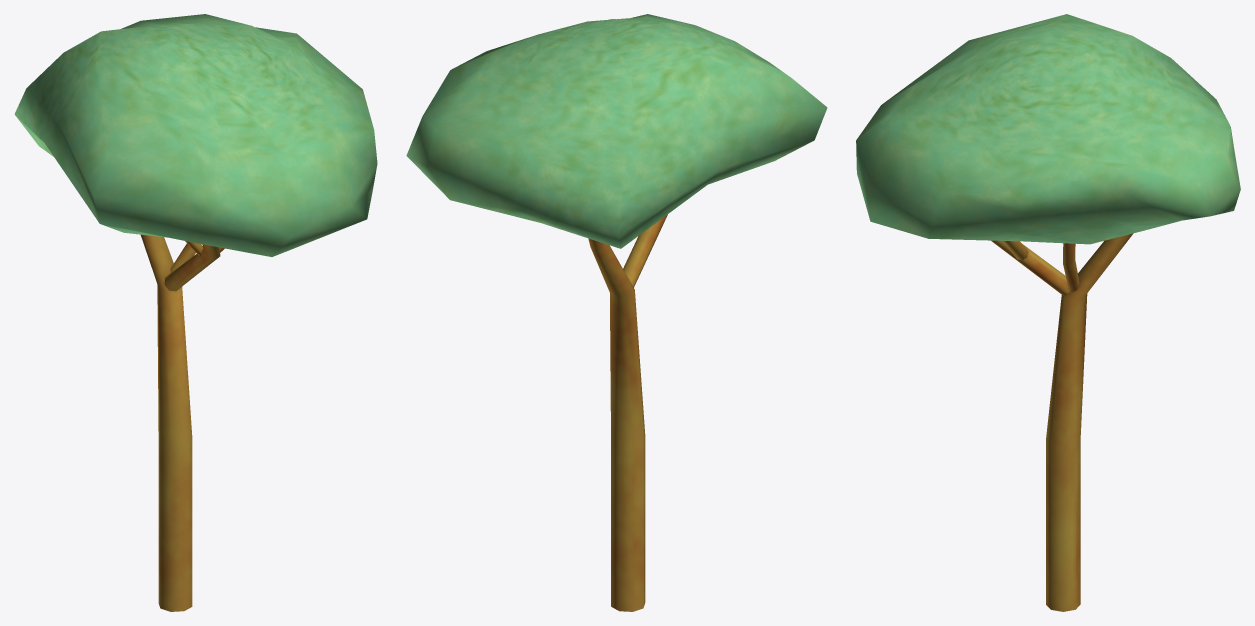
The model's file is Tree2.fbx.
3 views of the same model, side by side, from view 1: azimuth 30°, elevation 25°; view 2: azimuth 150°, elevation 25°; view 3: azimuth 270°, elevation 25° (orthographic). The views are drawn at different scales.
Parts seen in each view (by area): view 1: Tree2; view 2: Tree2; view 3: Tree2.
Boxes of the visible parts, x1,y1,x2,y2 form: Tree2: [14, 14, 377, 611]; Tree2: [406, 14, 827, 611]; Tree2: [856, 14, 1240, 611].
Bounding box in the file's own units: 2.74 × 4.9 × 3.05.
